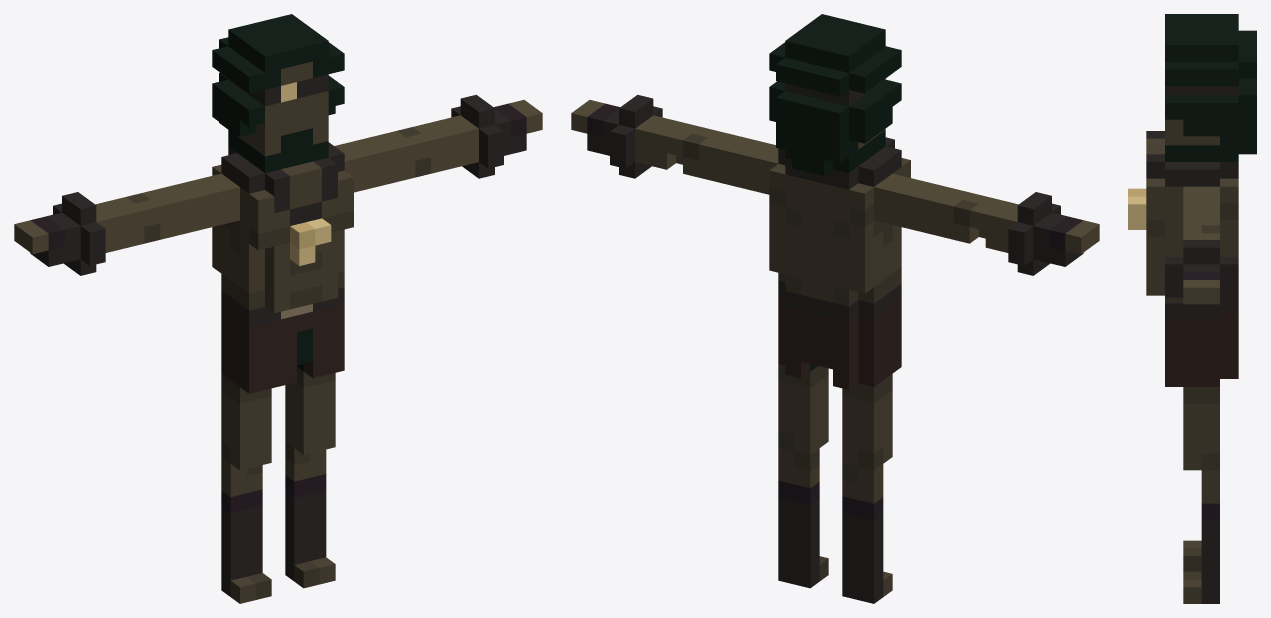
Rendered from tpose-character09.fbx.
The picture shows the model from 3 angles, left to right: view 1: azimuth 30°, elevation 25°; view 2: azimuth 150°, elevation 25°; view 3: azimuth 270°, elevation 25°; orthographic projection.
Parts seen in each view (by area): view 1: Character09; view 2: Character09; view 3: Character09.
Boxes of the visible parts, x1,y1,x2,y2 form: Character09: [14, 14, 542, 603]; Character09: [571, 14, 1099, 603]; Character09: [1128, 14, 1256, 603].
Size of the model in its own units: 3.2 by 3.3 by 0.7.
Materials: 16 (16 with a texture image).
